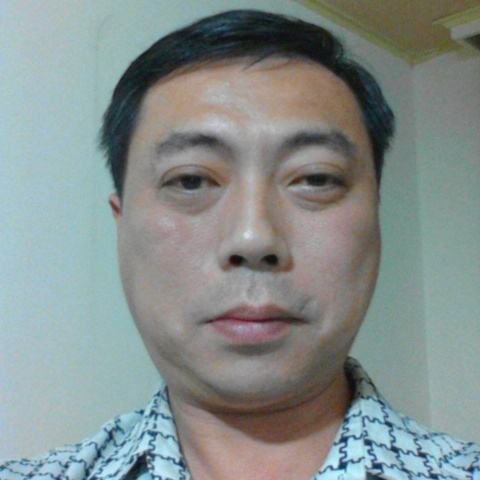male: (92, 18, 420, 427)
